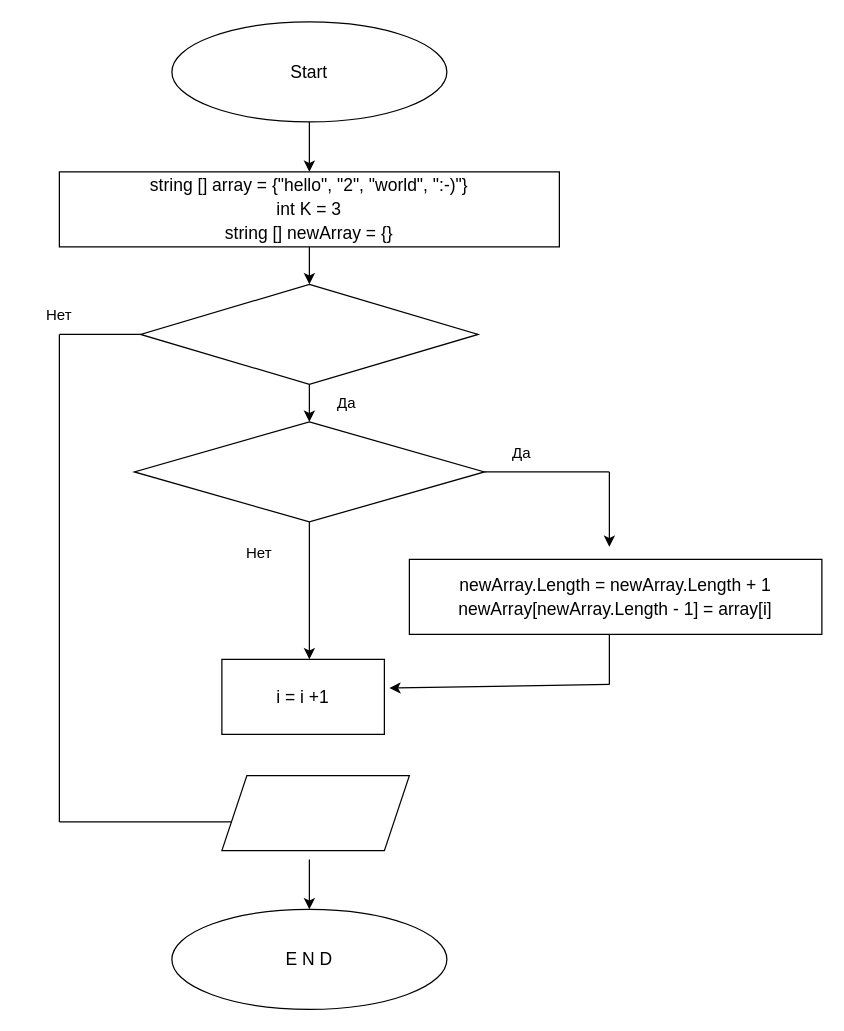
This 844x1031 diagram has some shape labels left out. Each missing label, with the centre of its shape:
"array [ i ]. Length <= K" goes at [308,471].
"i < array . Length" goes at [308,333].
"Print newArray" goes at [315,812].
